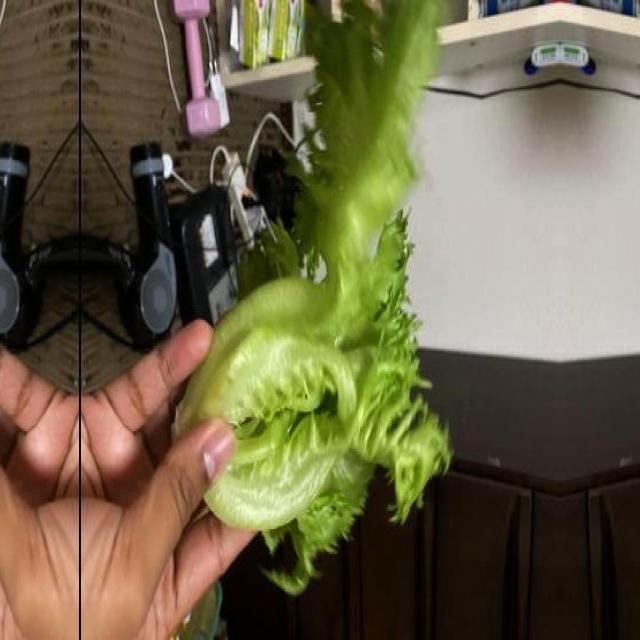healthy: (164, 0, 459, 598)
